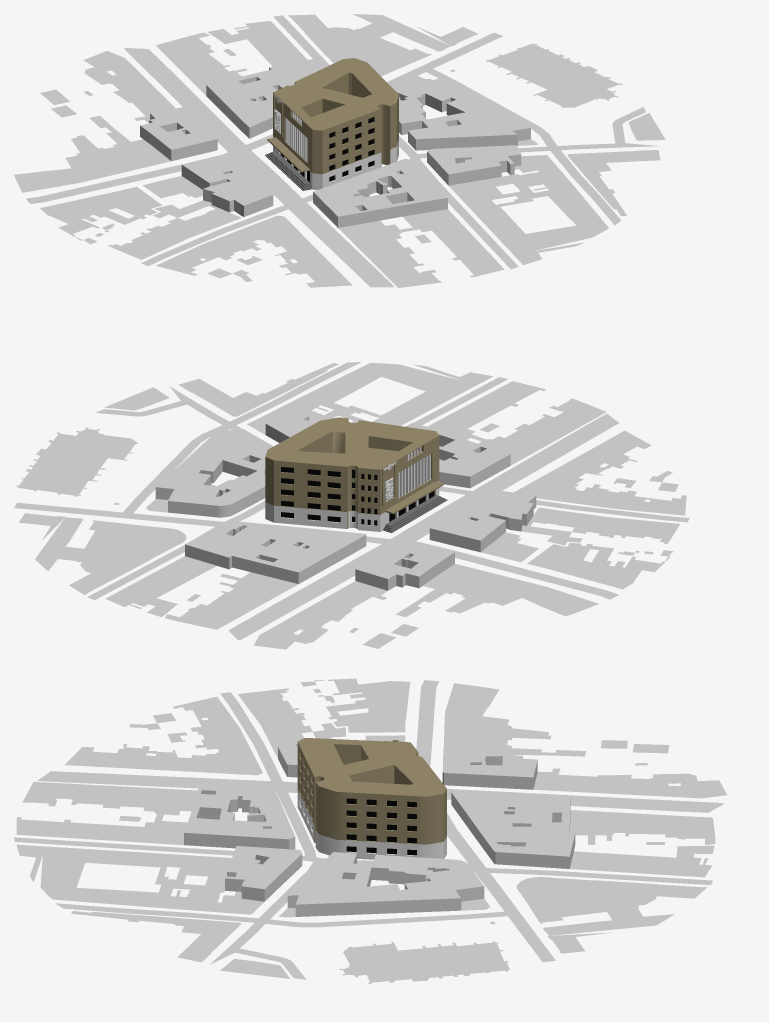
File: bordeaux_bourse_du_travail.glb
The picture shows the model from 3 angles, top to bottom: view 1: azimuth 30°, elevation 25°; view 2: azimuth 150°, elevation 25°; view 3: azimuth 270°, elevation 25°; orthographic projection. The views are drawn at different scales.
Visible parts, largest first — view 1: city-bordeaux, Routes, Cube.038, Cube.035; view 2: city-bordeaux, Cube.038, Routes, Cube.035; view 3: city-bordeaux, Cube.038, Routes.
Part boxes in pixels (x1,y1,x2,y2): city-bordeaux: (14,14,665,325); Routes: (26,15,659,287); Cube.038: (265,58,398,190); Cube.035: (285,117,307,162); city-bordeaux: (16,354,754,649); Cube.038: (265,417,447,532); Routes: (14,362,689,640); Cube.035: (397,454,430,498); city-bordeaux: (16,678,726,983); Cube.038: (297,738,446,859); Routes: (14,680,723,979).
Bounding box in the file's own units: 1.24 × 0.1176 × 1.18.
